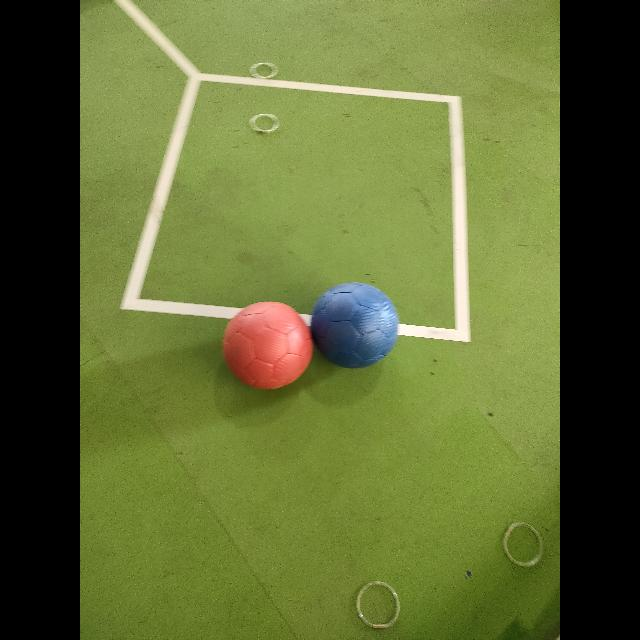B: (311, 282, 399, 368)
R: (222, 302, 312, 389)
